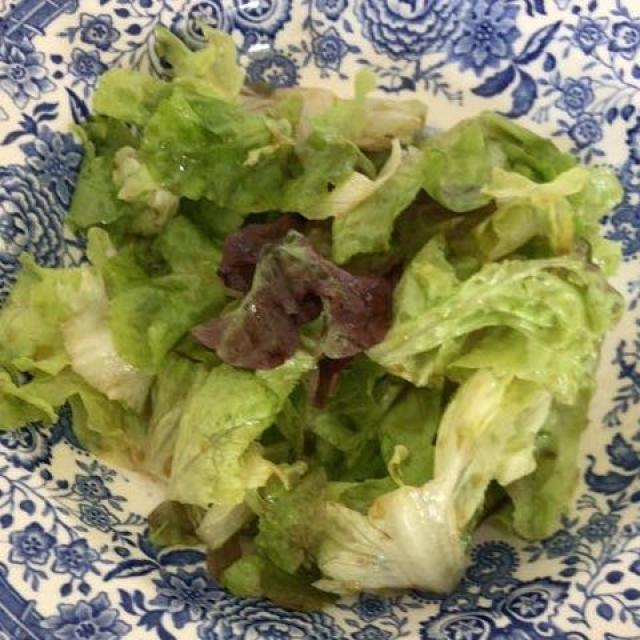salad: (21, 33, 614, 586)
